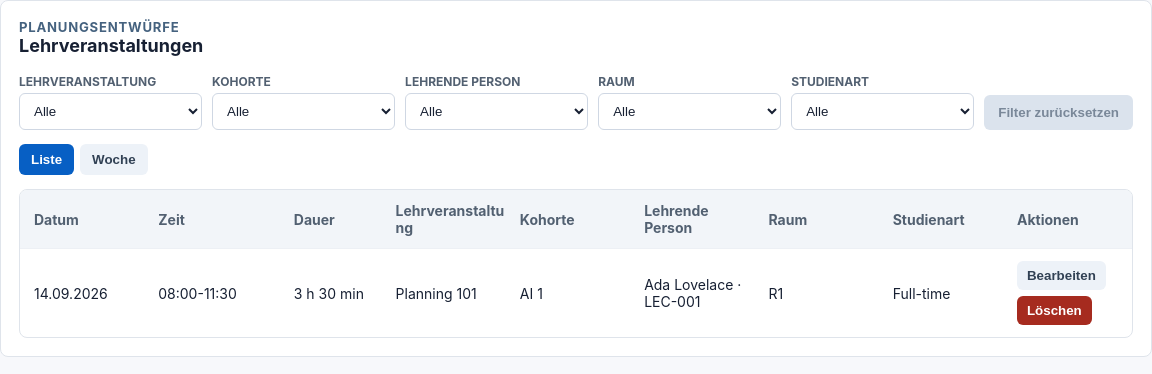
DraftSchedulePanel › filters visible sessions and shows a no-results state
Select "AI 1" in the dropdown named "cohortId" at (304, 112), box left=212, top=93, right=395, bottom=130
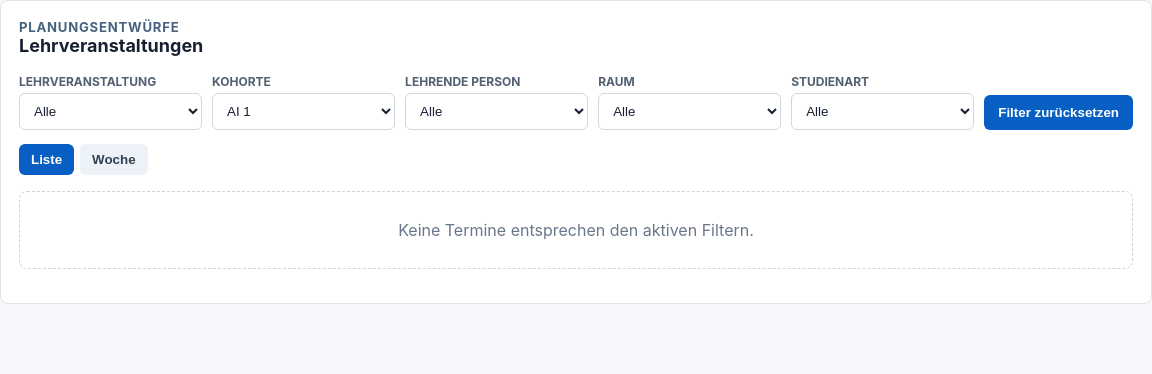
Result: the text "Keine Termine entsprechen den aktiven Filtern." is shown at left=19, top=191, right=1133, bottom=269
Click the button "Filter zurücksetzen".
click(1059, 112)  # box left=984, top=95, right=1133, bottom=130
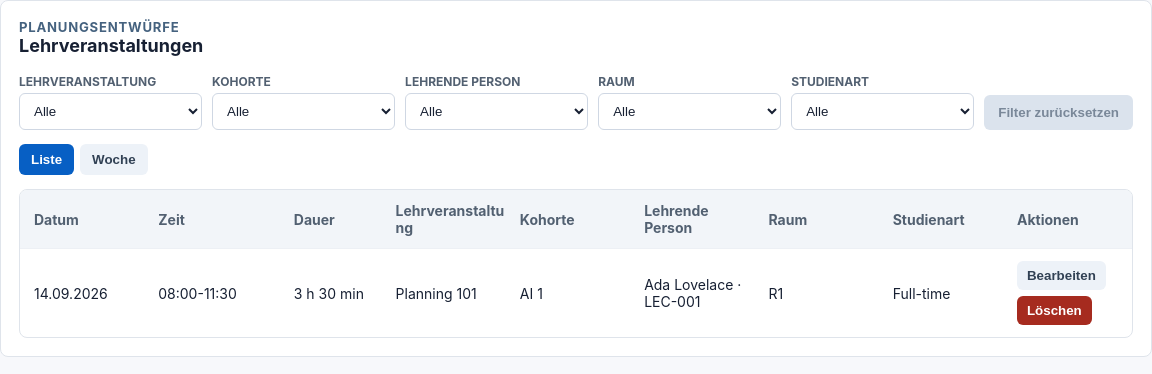
Result: the text "14.09.2026" is shown at left=34, top=284, right=108, bottom=302
